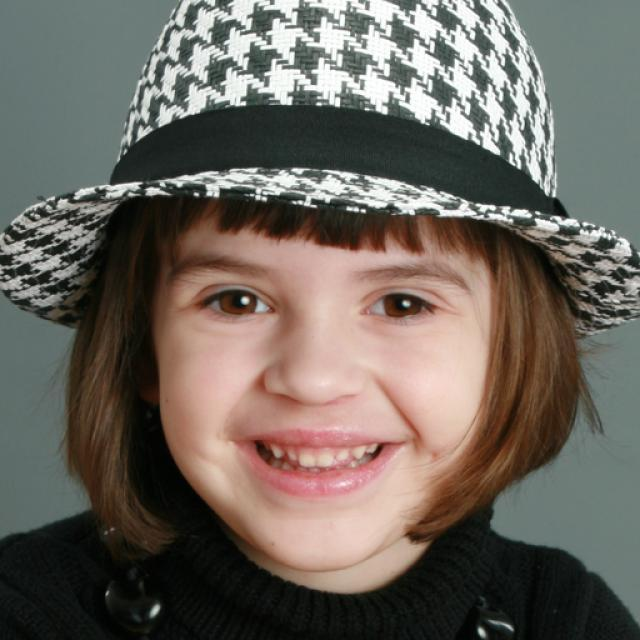happy: (156, 213, 500, 568)
